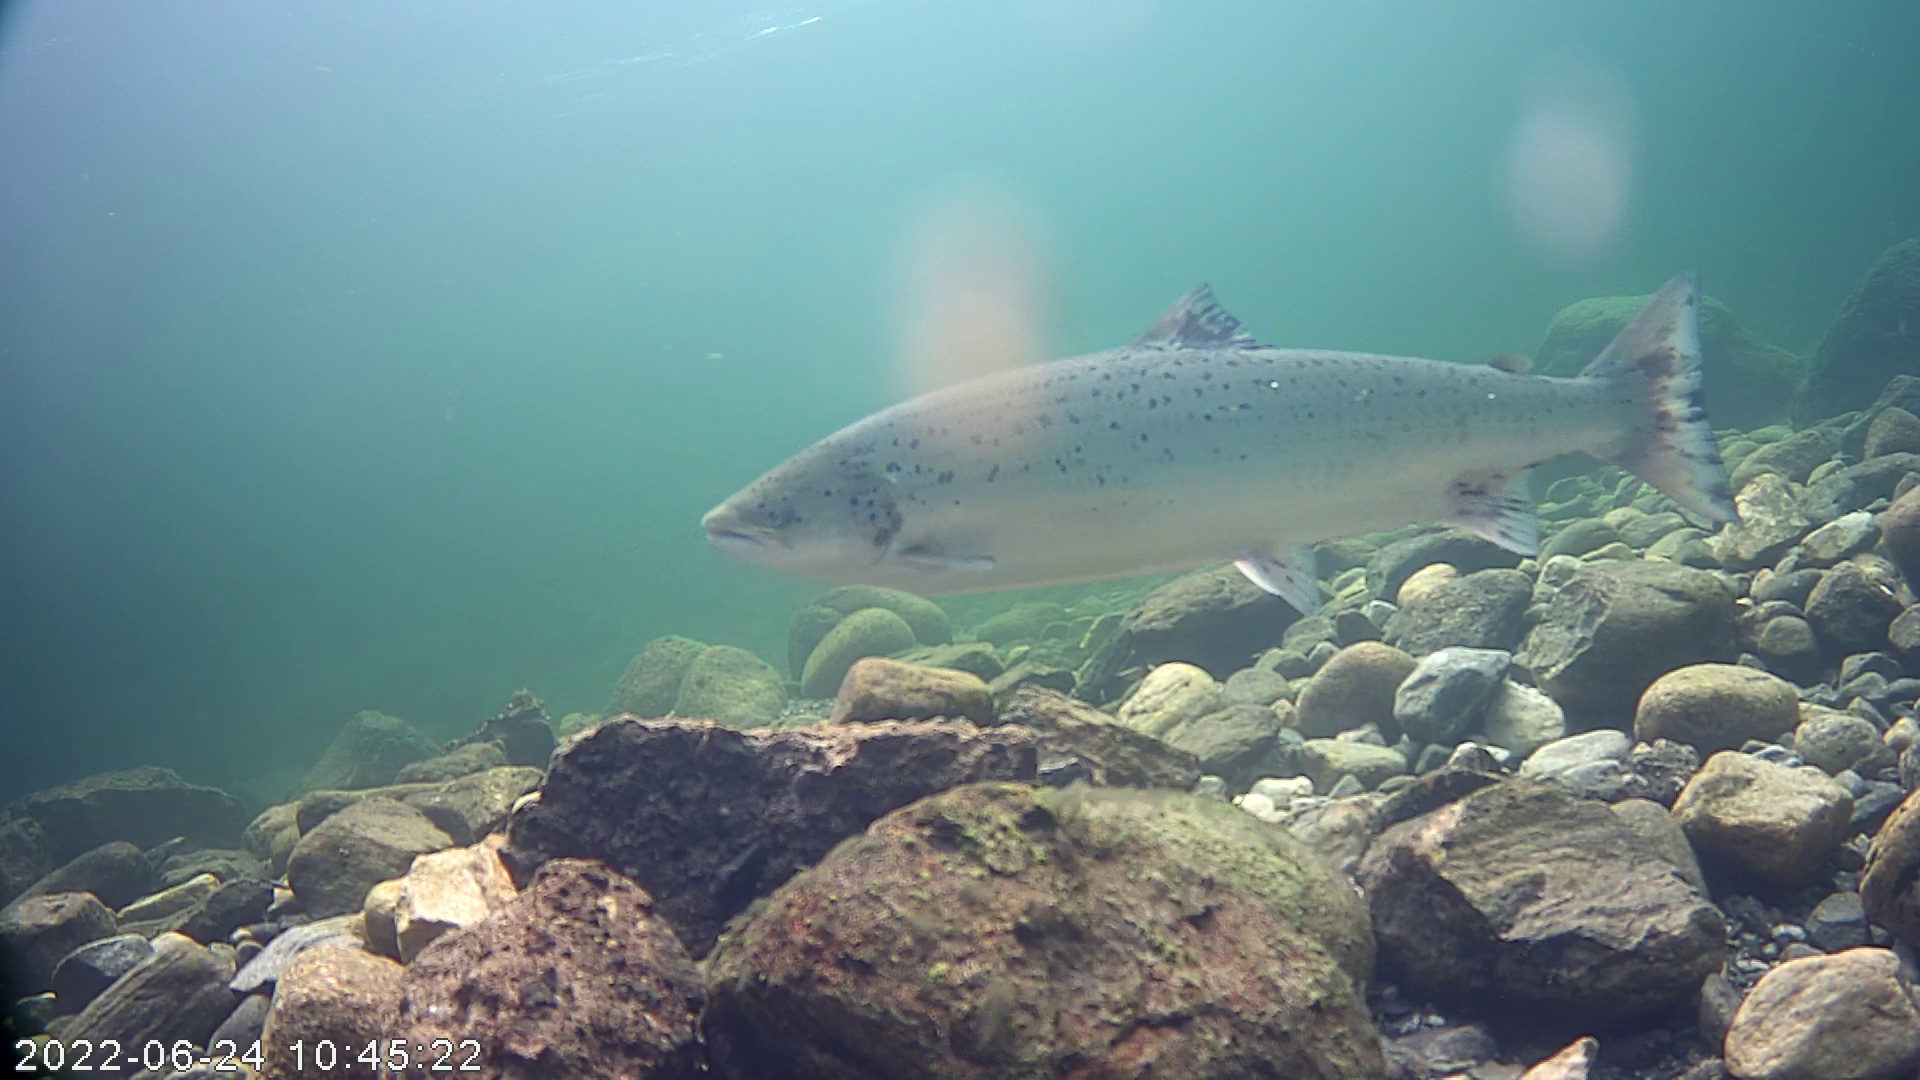salmon: (698, 268, 1747, 622)
